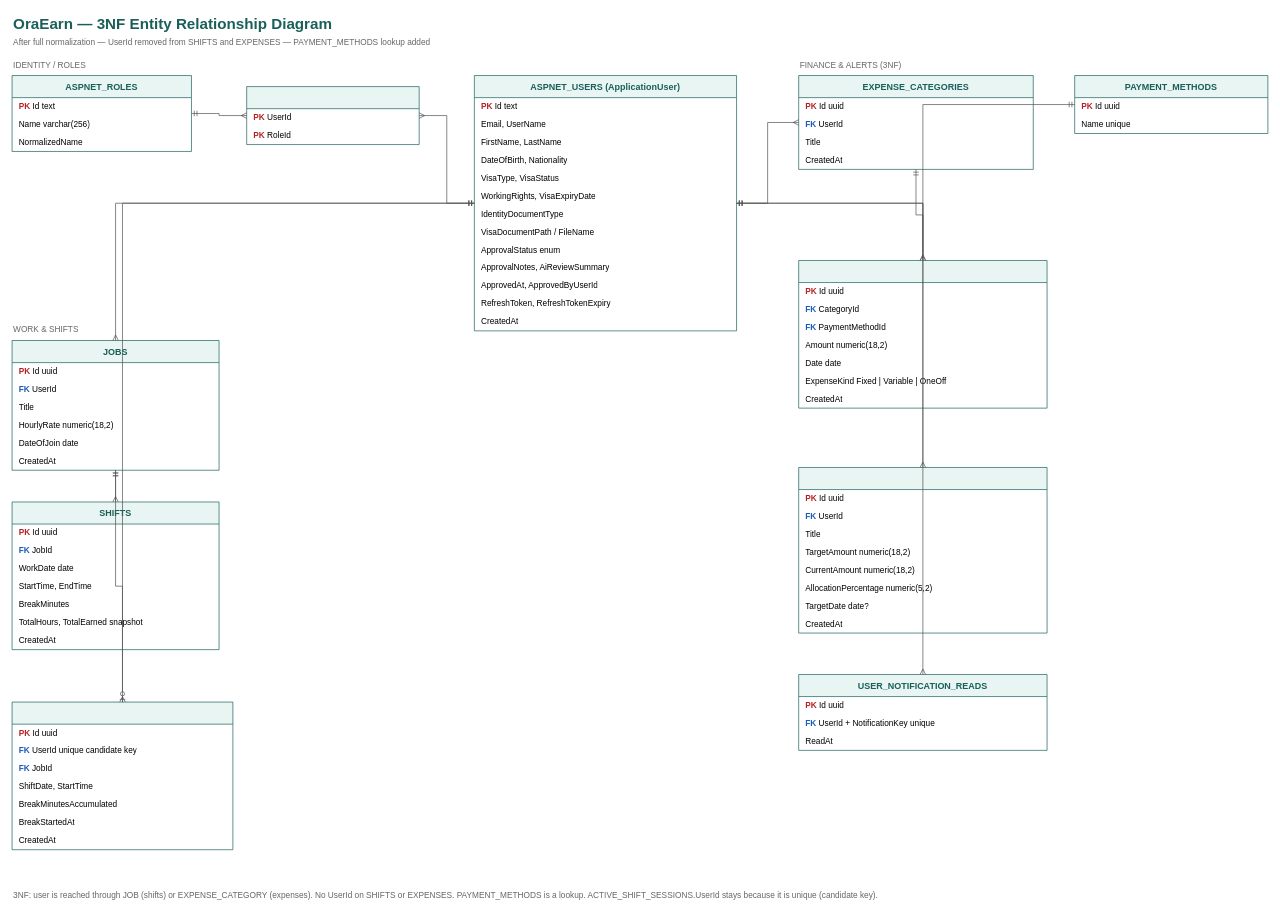
Image size: 1280x920. Some labels were removed from this diagram. Each missing label, with the box of its shape:
ACTIVE_SHIFT_SESSIONS: (11, 701, 233, 850)
ASPNET_USER_ROLES: (246, 86, 419, 145)
EXPENSES: (798, 260, 1047, 408)
SAVINGS_GOALS: (798, 467, 1047, 633)
